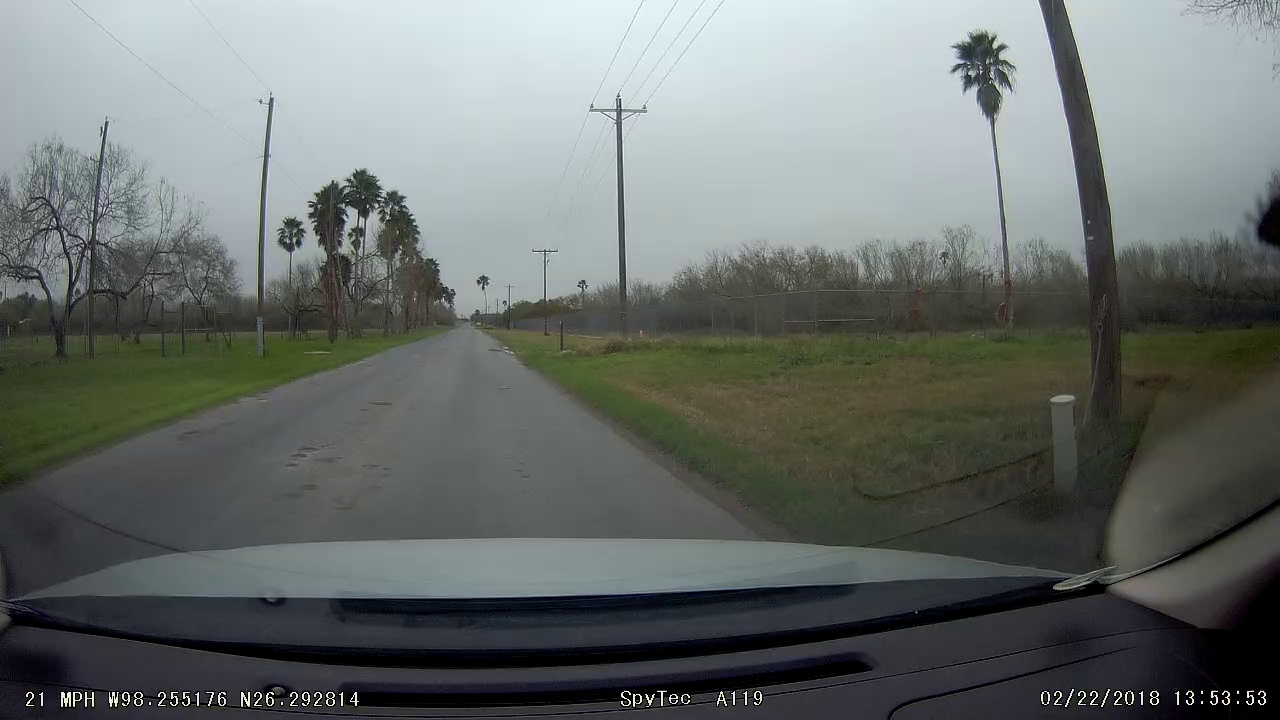pothole: (274, 436, 331, 475)
